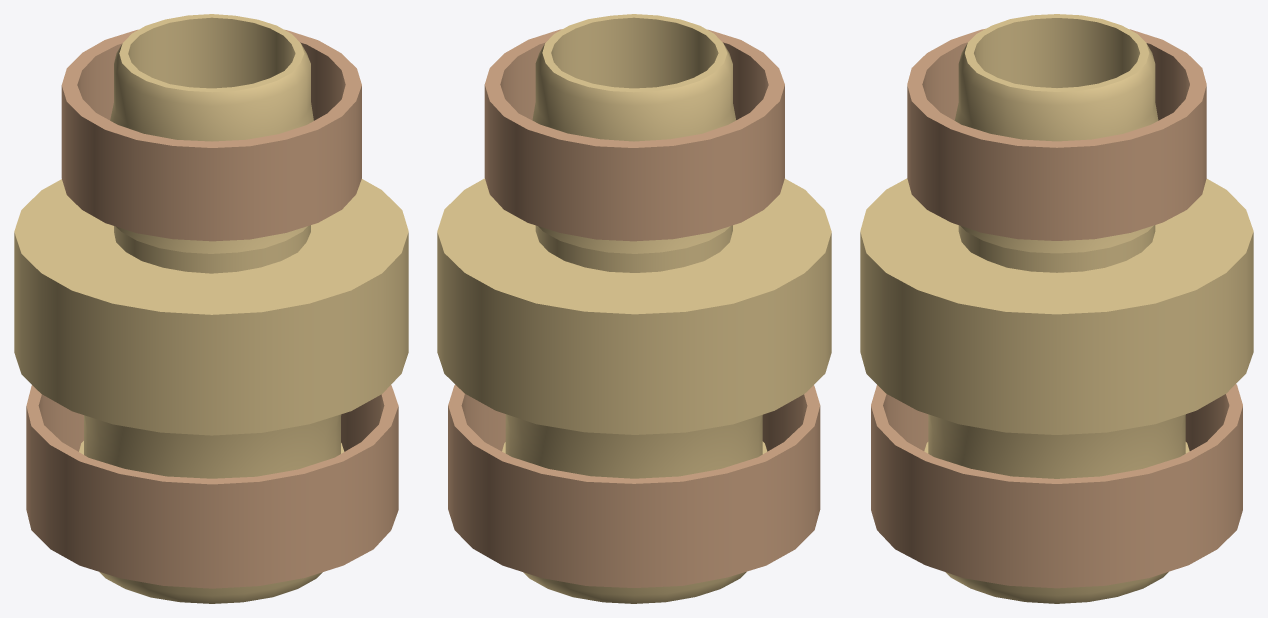
File: slab_pipes_supply__water-city_filter_and_plumbing-attic_repipe+pex+pex_branch_and_softener-yes.glb
3 renders of one model, left to right at view 1: azimuth 30°, elevation 25°; view 2: azimuth 150°, elevation 25°; view 3: azimuth 270°, elevation 25°, orthographic.
Parts seen in each view (by area): view 1: fit_bushing_pipe_supply_house_entry__pex; view 2: fit_bushing_pipe_supply_house_entry__pex; view 3: fit_bushing_pipe_supply_house_entry__pex.
Boxes of the visible parts, left/top/right/bottom form: fit_bushing_pipe_supply_house_entry__pex: left=14, top=14, right=408, bottom=603; fit_bushing_pipe_supply_house_entry__pex: left=437, top=14, right=831, bottom=603; fit_bushing_pipe_supply_house_entry__pex: left=860, top=14, right=1253, bottom=603.
Size of the model in its own units: 0.0317 by 0.0444 by 0.0317.
